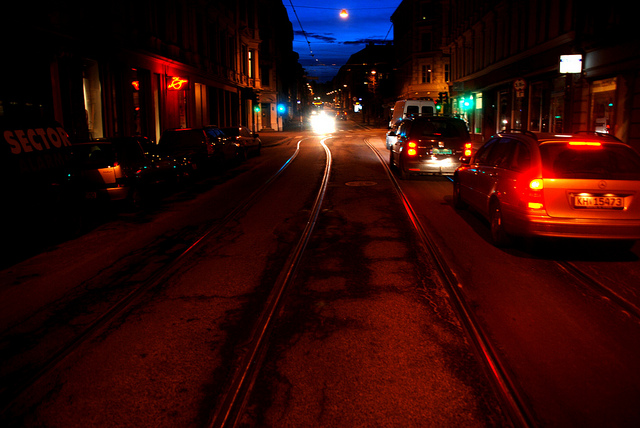car: (384, 112, 483, 183)
